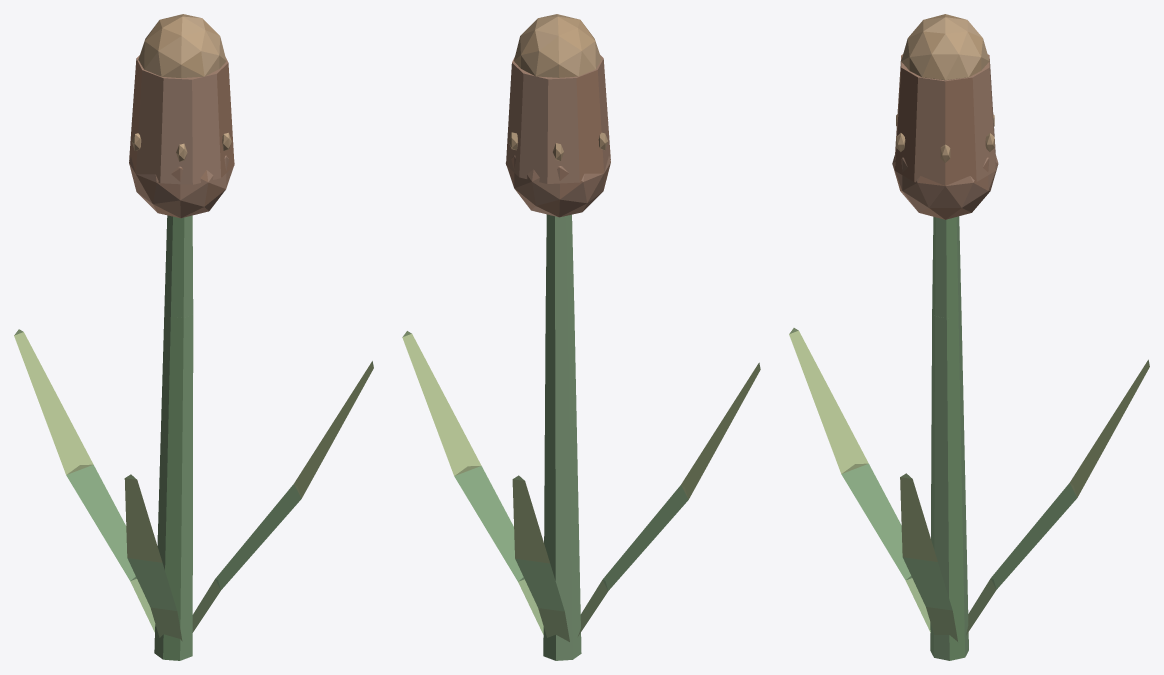
File: cattail_single.glb
3 renders of one model, left to right at view 1: azimuth 30°, elevation 25°; view 2: azimuth 150°, elevation 25°; view 3: azimuth 270°, elevation 25°, orthographic.
Parts seen in each view (by area): view 1: Cattail_seed_head, Cattail_leaves, Cattail_stalk; view 2: Cattail_seed_head, Cattail_leaves, Cattail_stalk; view 3: Cattail_seed_head, Cattail_leaves, Cattail_stalk.
Part boxes in pixels (x1,y1,x2,y2): Cattail_seed_head: (129, 14, 234, 218); Cattail_leaves: (14, 329, 373, 641); Cattail_stalk: (154, 215, 193, 660); Cattail_seed_head: (505, 14, 610, 217); Cattail_leaves: (402, 331, 760, 641); Cattail_stalk: (543, 214, 581, 660); Cattail_seed_head: (892, 14, 998, 219); Cattail_leaves: (789, 328, 1149, 641); Cattail_stalk: (930, 216, 968, 660).
Size of the model in its own units: 0.7929 by 1.59 by 0.8152.
